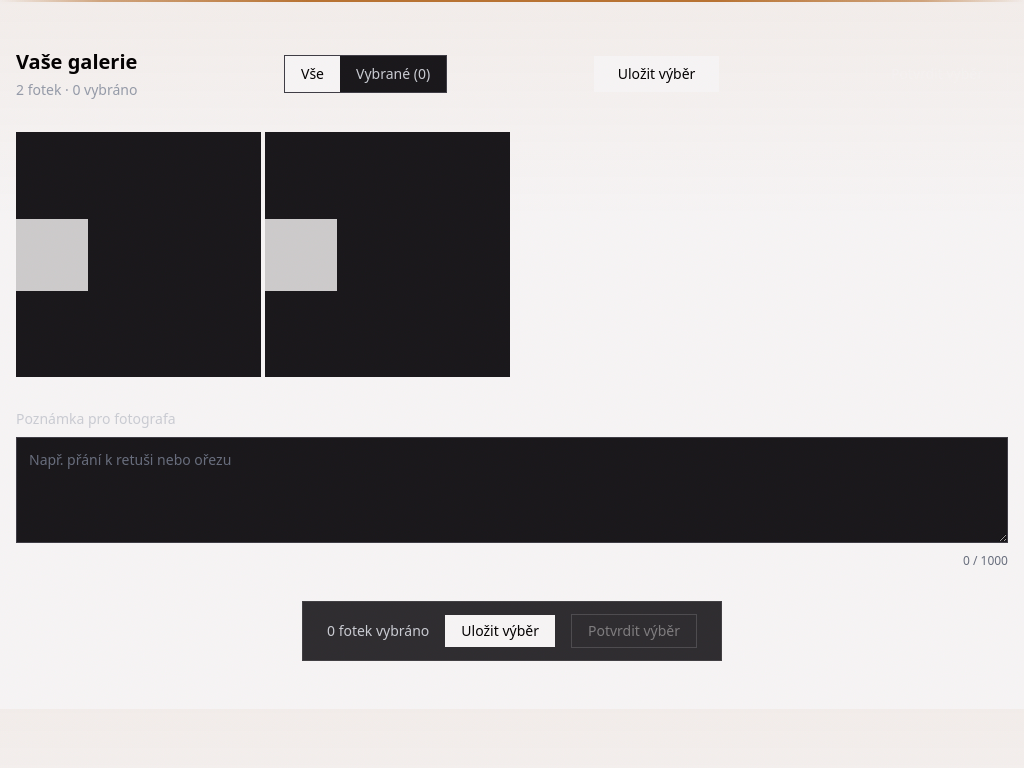
Test: GalleryClient ukládání výběru › při 410 zobrazí chybu a ne „Uloženo“
The width and height of the screenshot is (1024, 768).
Click the button "Uložit výběr" in the row of "Vaše galerie" at (656, 74), box 594,56 -> 719,92
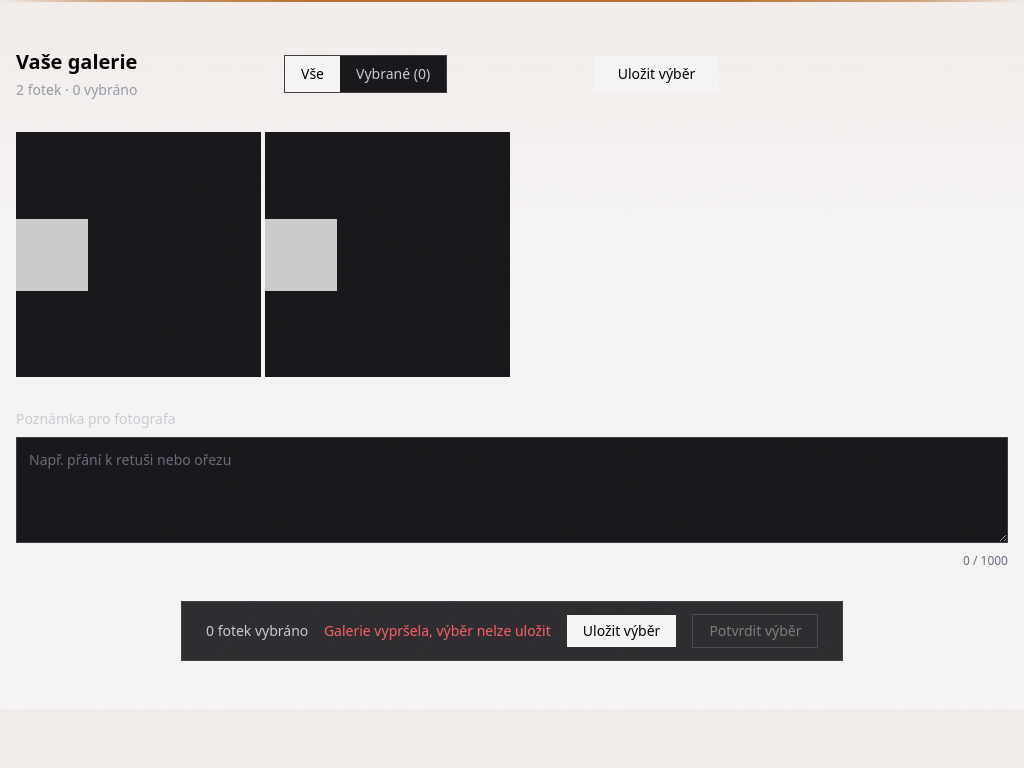
Expected: the message shows "vypršela", 324,621 -> 551,640
